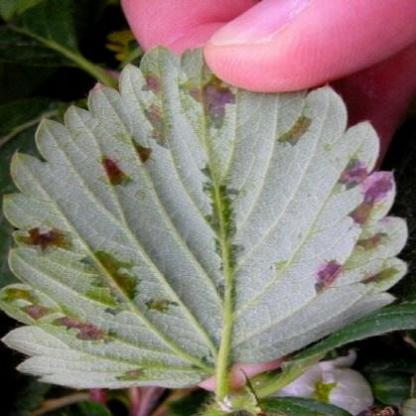Strawberry_Angular_LeafSpot: (0, 44, 409, 390)
